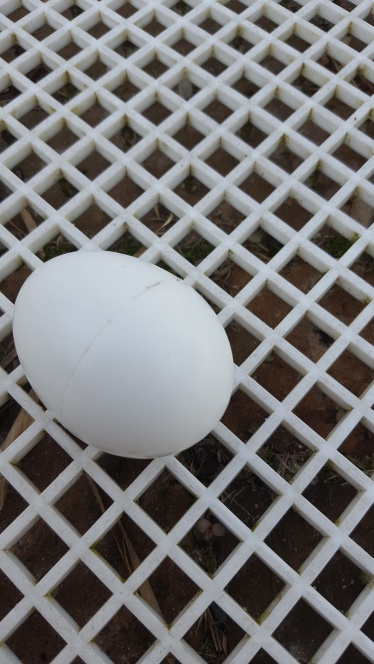egg: (17, 248, 233, 459)
